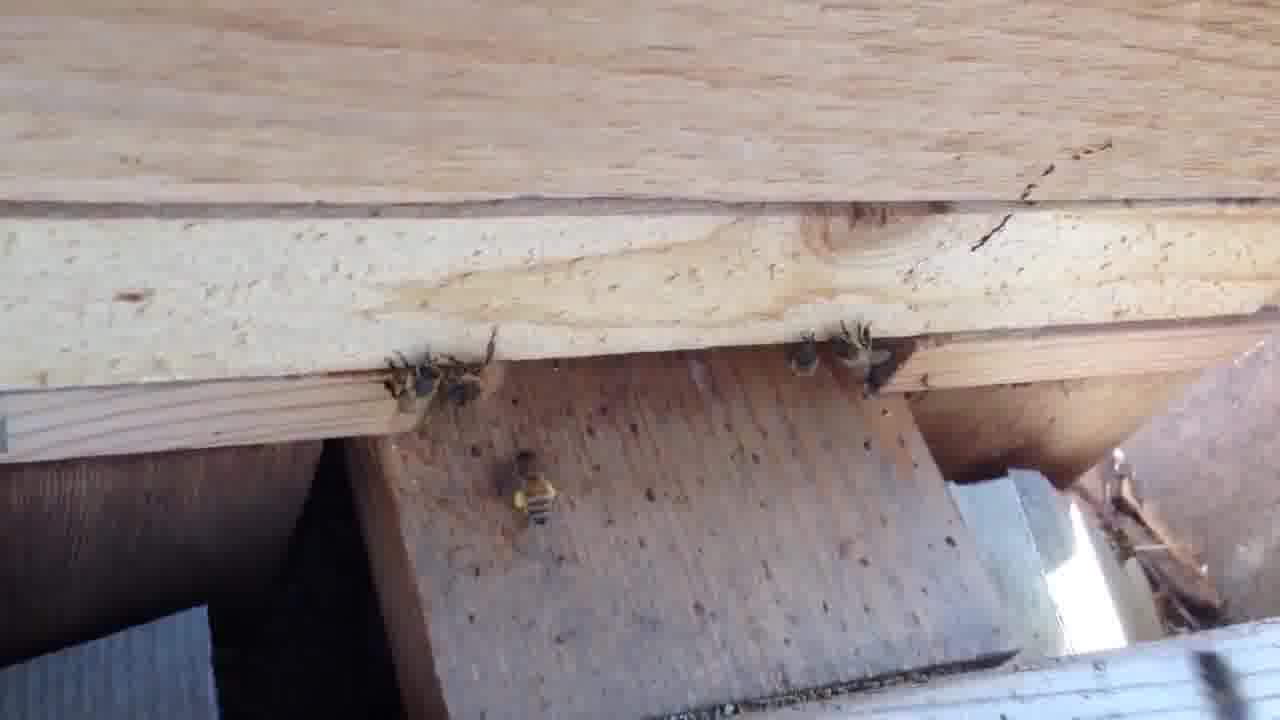pollen: (503, 444, 566, 526)
